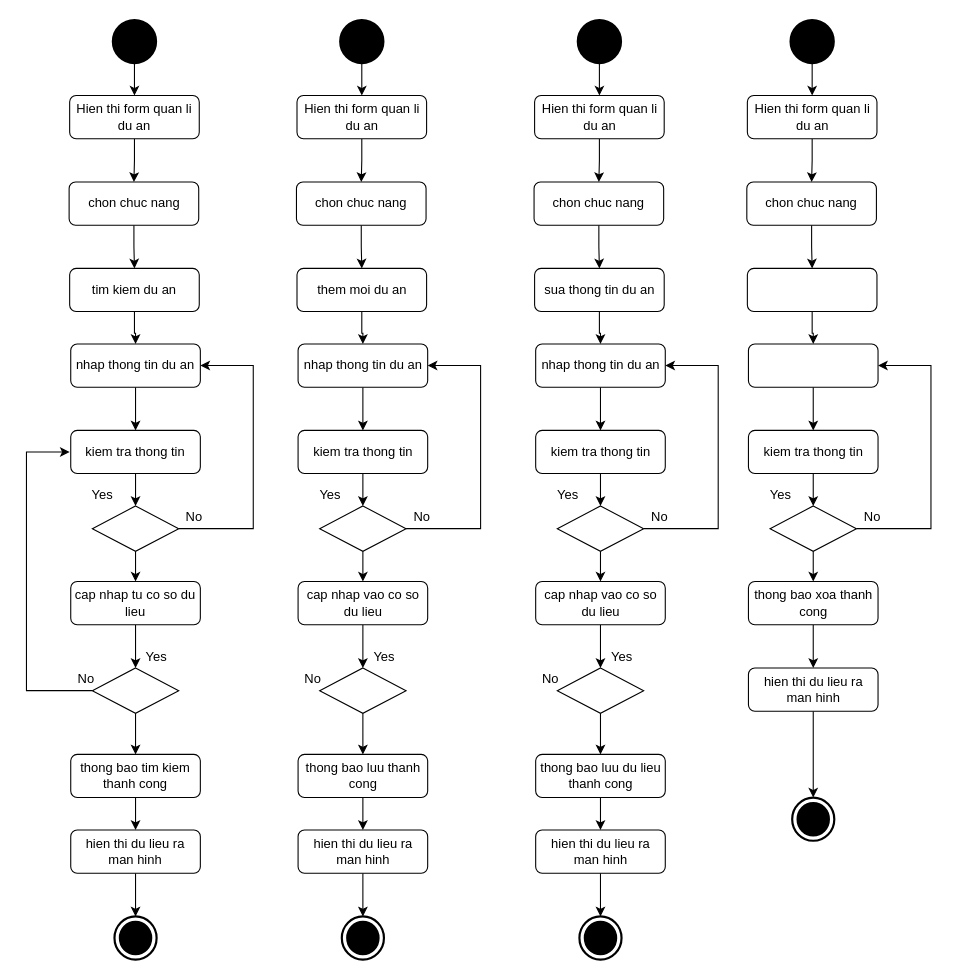
Some shapes in this 959 by 978 pixel diagram are drawn without their labels. The box of each missing label's shape, as (x1, y1, x2, y2) in pixels:
cap nhap thong tin vao co so du lieu: (747, 343, 878, 387)
xoa du an: (746, 267, 877, 312)
